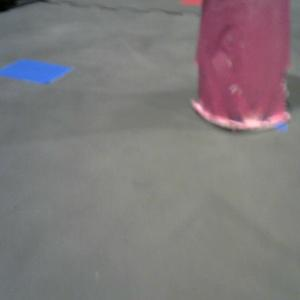Right: (191, 1, 291, 130)
